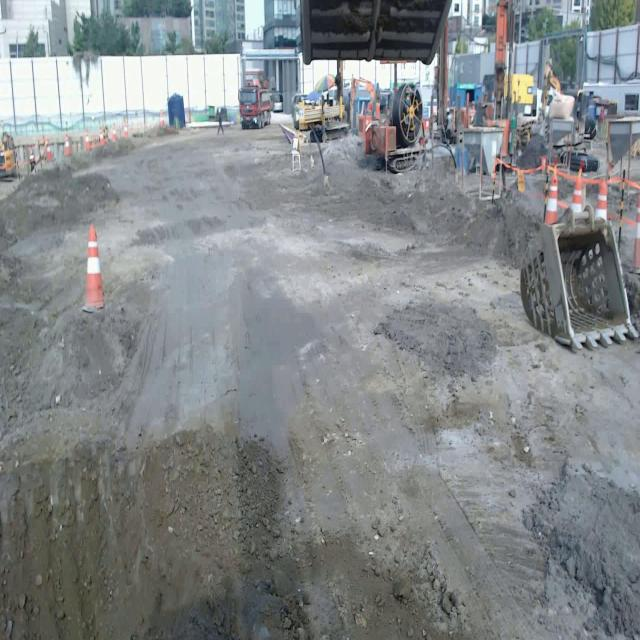red-sand: (0, 129, 640, 639)
